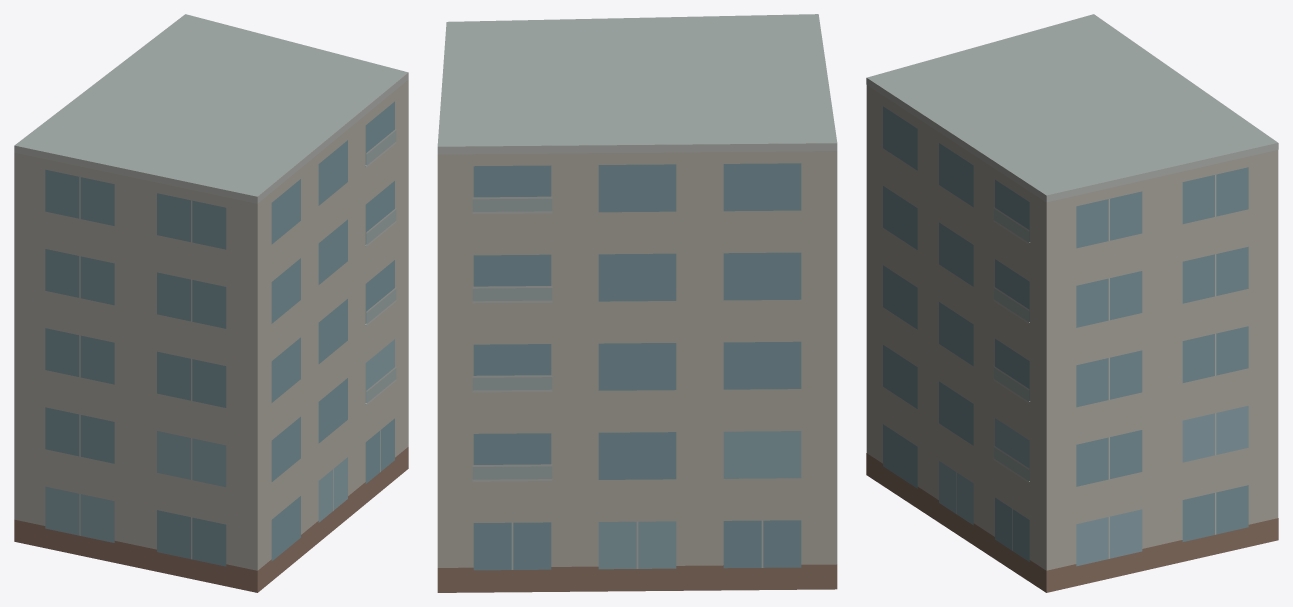
Rendered from survey-upis-33046246.glb.
3 renders of one model, left to right at view 1: azimuth 30°, elevation 25°; view 2: azimuth 150°, elevation 25°; view 3: azimuth 270°, elevation 25°, orthographic. The views are drawn at different scales.
Parts seen in each view (by area): view 1: survey-upis-33046246.tmp; view 2: survey-upis-33046246.tmp; view 3: survey-upis-33046246.tmp.
Part boxes in pixels (bbox=[...]): survey-upis-33046246.tmp: bbox=[14, 14, 408, 592]; survey-upis-33046246.tmp: bbox=[437, 14, 837, 592]; survey-upis-33046246.tmp: bbox=[866, 14, 1278, 592].
Size of the model in its own units: 13.72 by 14 by 13.16.
